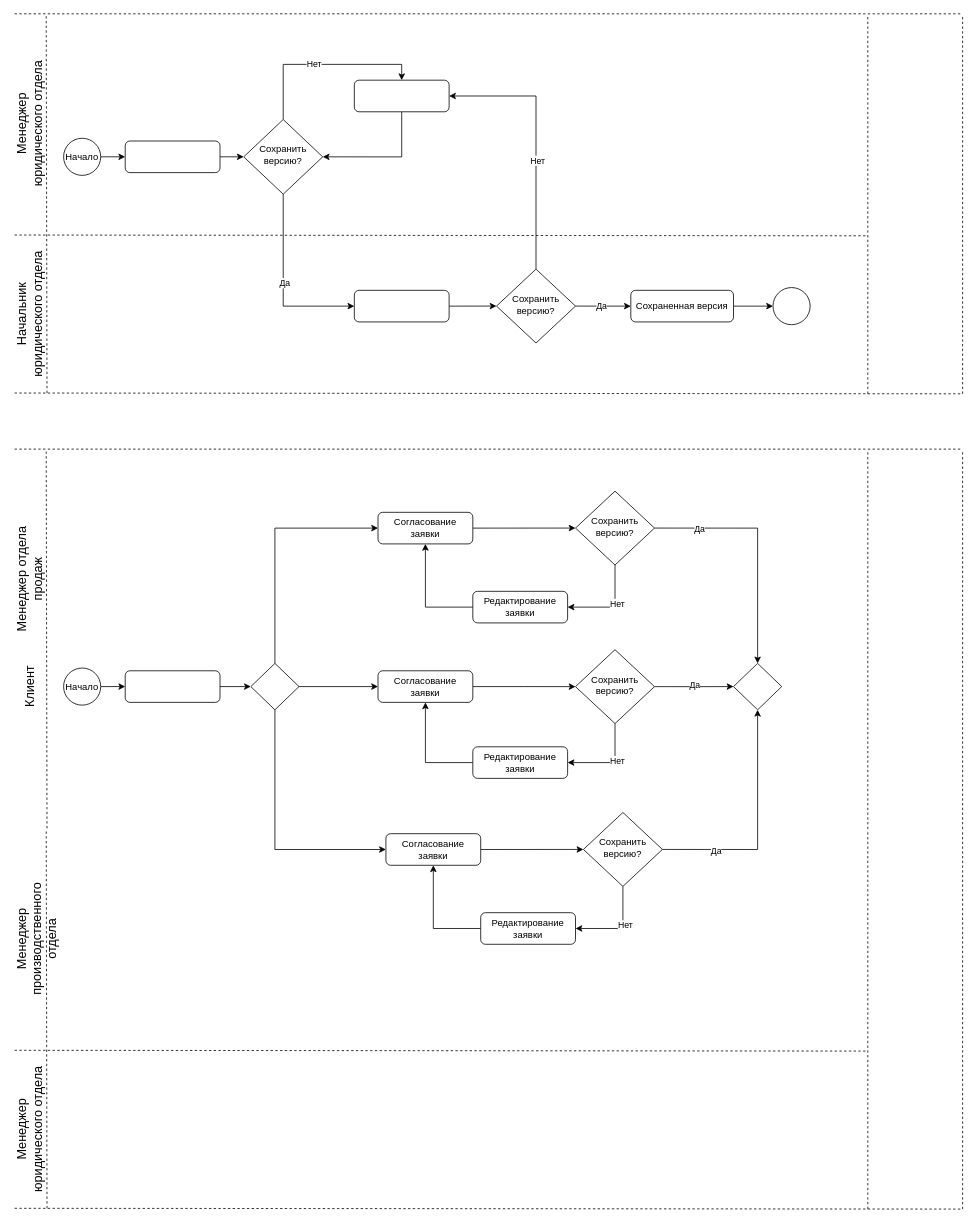
Image size: 977x1224. Some labels were removed from this diagram. Each missing label, with the box of its shape:
Конец: (772, 287, 810, 325)
Подать заявку: (124, 670, 220, 702)
Редактирование шаблона: (354, 79, 449, 112)
Согласование шаблона: (354, 290, 449, 322)
Создание шаблона: (124, 140, 220, 173)
